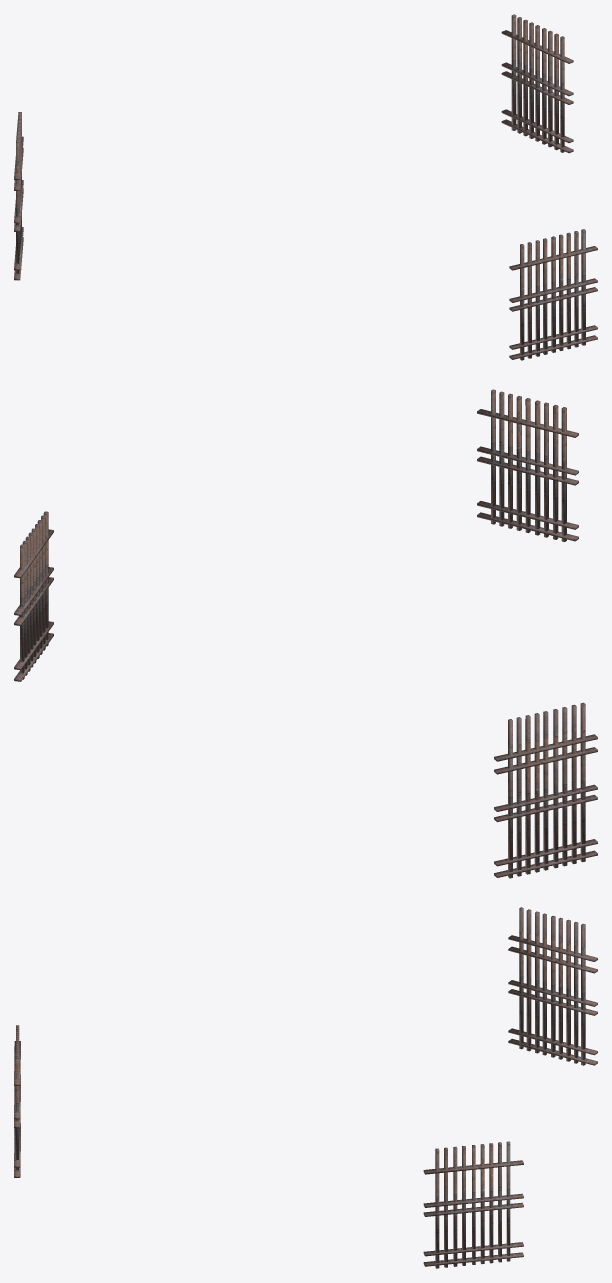
Rendered from SM_Bergstadt_Metal_00.fbx.
3 renders of one model, top to bottom at view 1: azimuth 30°, elevation 25°; view 2: azimuth 150°, elevation 25°; view 3: azimuth 270°, elevation 25°, orthographic. The views are drawn at different scales.
Visible parts, largest first — view 1: SM_Bergstadt_Metal_00; view 2: SM_Bergstadt_Metal_00; view 3: SM_Bergstadt_Metal_00.
Part boxes in pixels (<box>): SM_Bergstadt_Metal_00: <box>14,14,597,360</box>; SM_Bergstadt_Metal_00: <box>14,389,597,878</box>; SM_Bergstadt_Metal_00: <box>14,907,597,1268</box>.
Bounding box in the file's own units: 4110 × 1129 × 3893.
